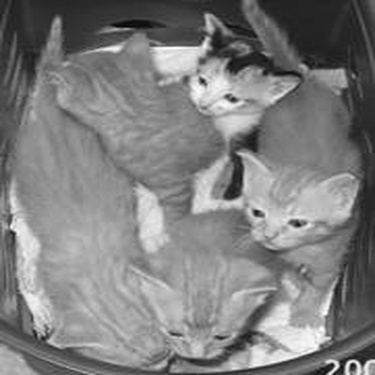cat: (8, 17, 176, 372), (239, 1, 366, 331), (49, 33, 224, 216), (126, 206, 281, 363), (187, 12, 304, 200)
